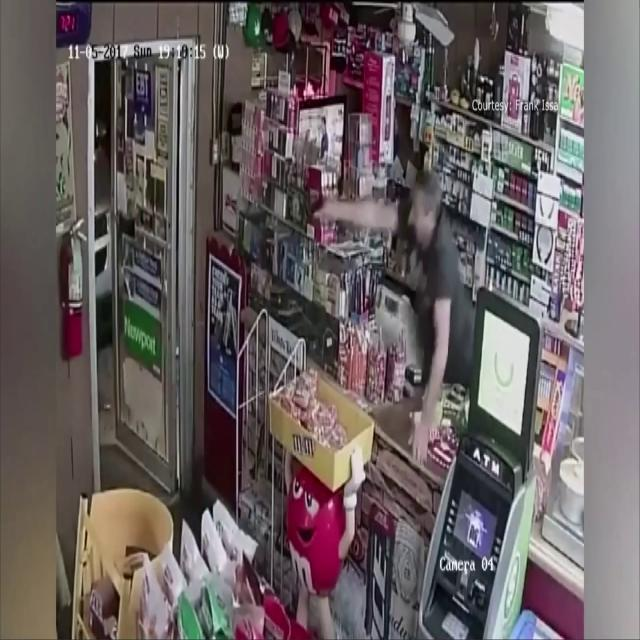Gun: (304, 194, 338, 229)
